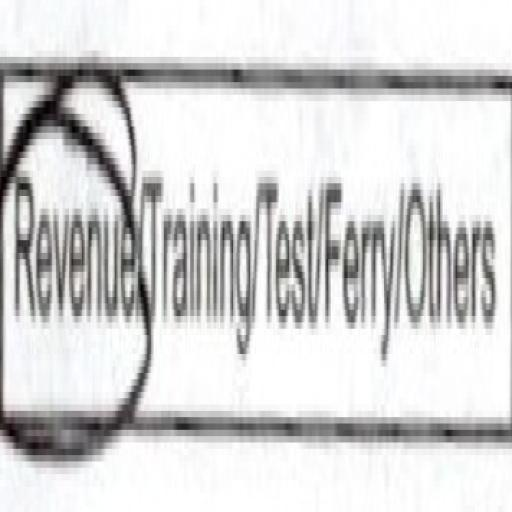check: (0, 44, 141, 512)
